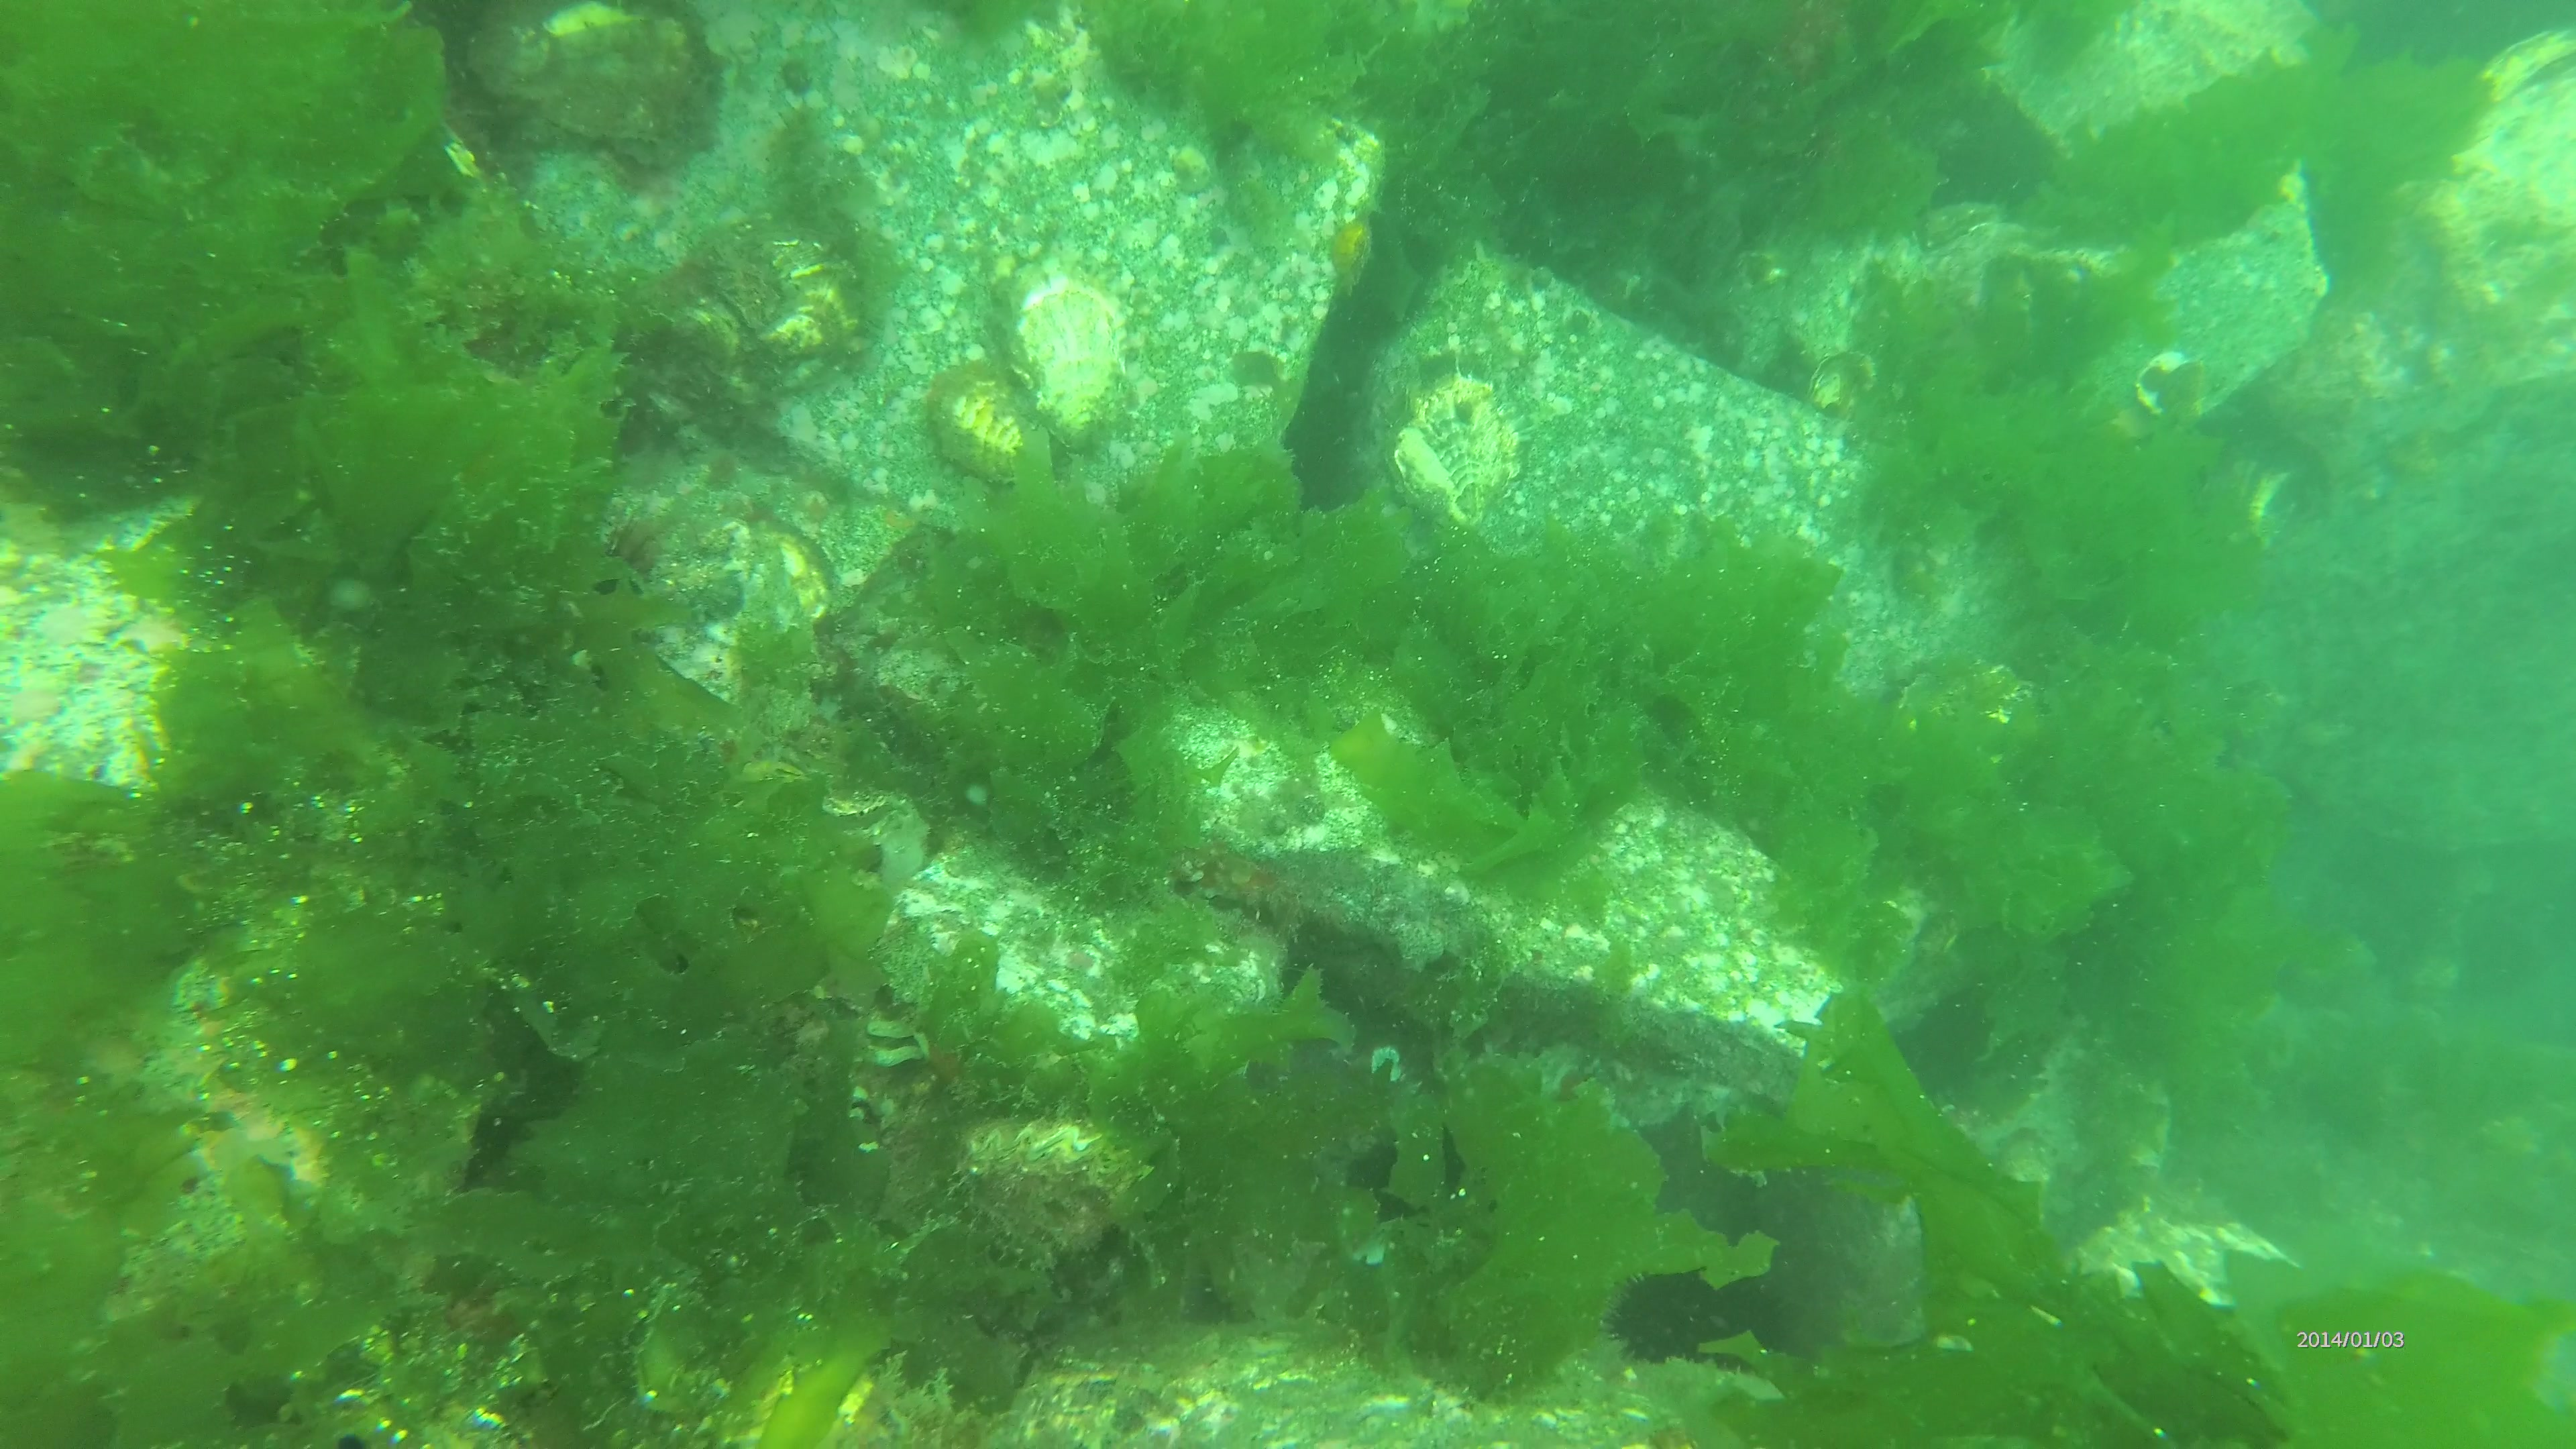echinus: (1599, 1267, 1796, 1373)
scallop: (462, 0, 695, 145), (702, 225, 869, 354), (1391, 370, 1523, 525), (1019, 276, 1118, 435), (927, 357, 1051, 481)
